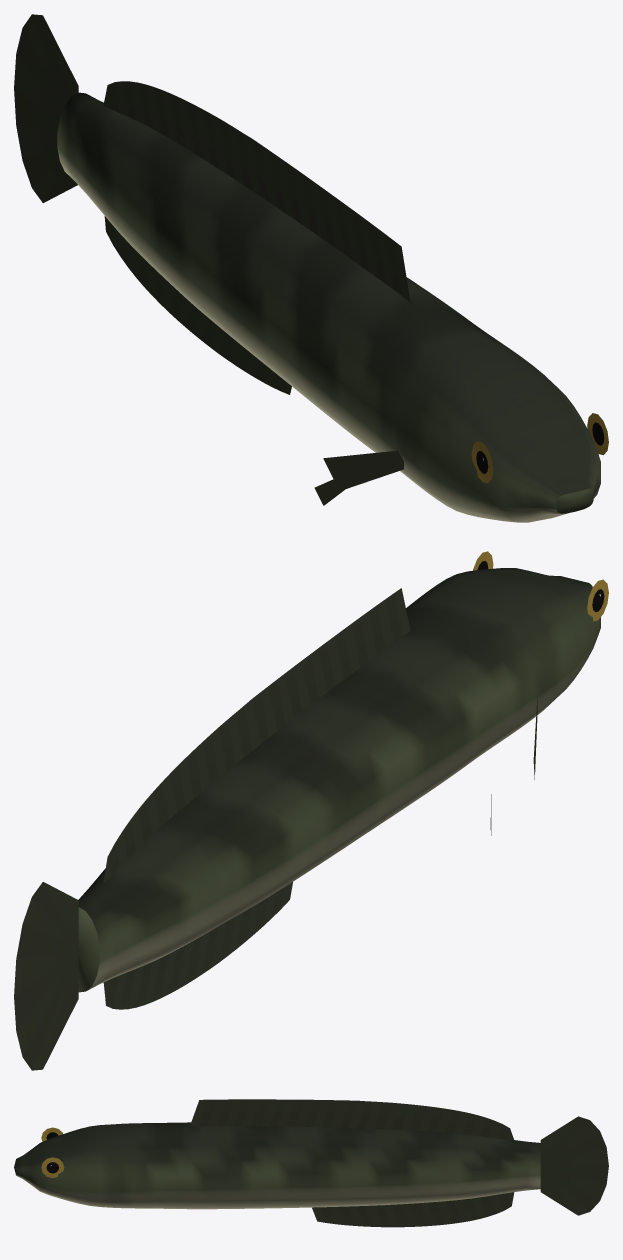
The model's file is haruan.fbx.
The picture shows the model from 3 angles, top to bottom: view 1: azimuth 30°, elevation 25°; view 2: azimuth 150°, elevation 25°; view 3: azimuth 270°, elevation 25°; orthographic projection. The views are drawn at different scales.
Visible parts, largest first — view 1: haruan; view 2: haruan; view 3: haruan.
Part boxes in pixels (left/top/right/bottom): haruan: left=14, top=14, right=608, bottom=522; haruan: left=14, top=551, right=608, bottom=1070; haruan: left=14, top=1099, right=608, bottom=1227.
Size of the model in its own units: 0.2448 by 0.269 by 1.13.
